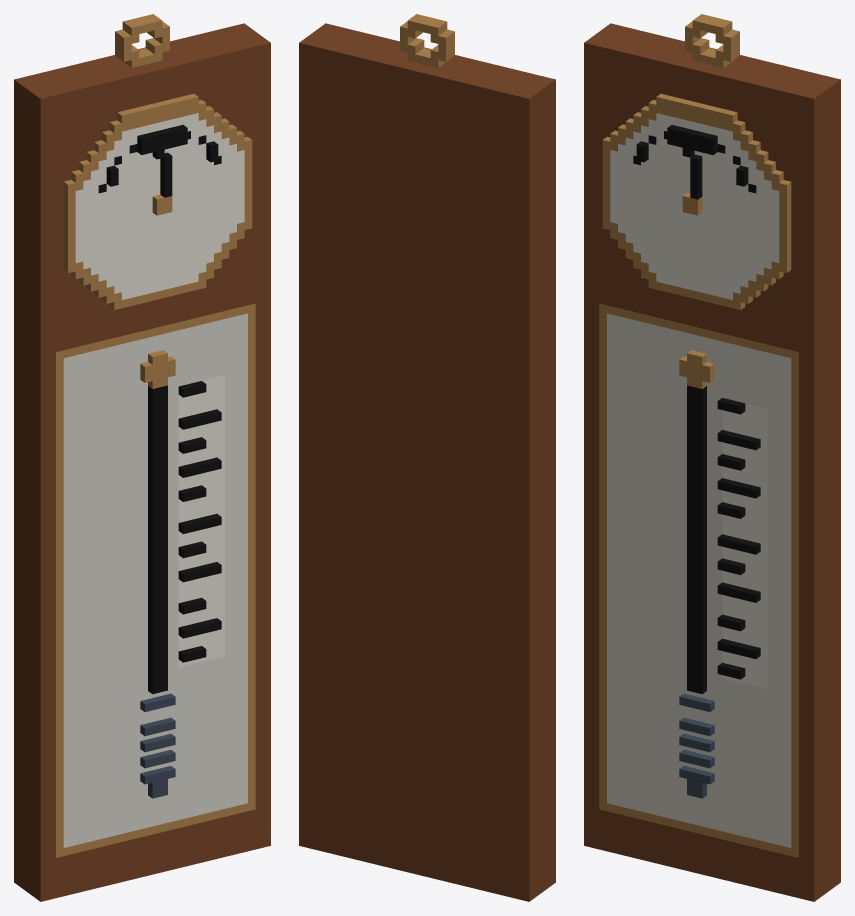
The model's file is hygroscope.glb.
The picture shows the model from 3 angles, left to right: view 1: azimuth 30°, elevation 25°; view 2: azimuth 150°, elevation 25°; view 3: azimuth 330°, elevation 25°; orthographic projection.
Parts seen in each view (by area): view 1: hygroscope:compound; view 2: hygroscope:compound; view 3: hygroscope:compound.
Boxes of the visible parts, x1,y1,x2,y2 form: hygroscope:compound: (14, 14, 270, 901); hygroscope:compound: (299, 14, 555, 901); hygroscope:compound: (584, 14, 840, 901).
Size of the model in its own units: 0.12 by 0.42 by 0.032.
